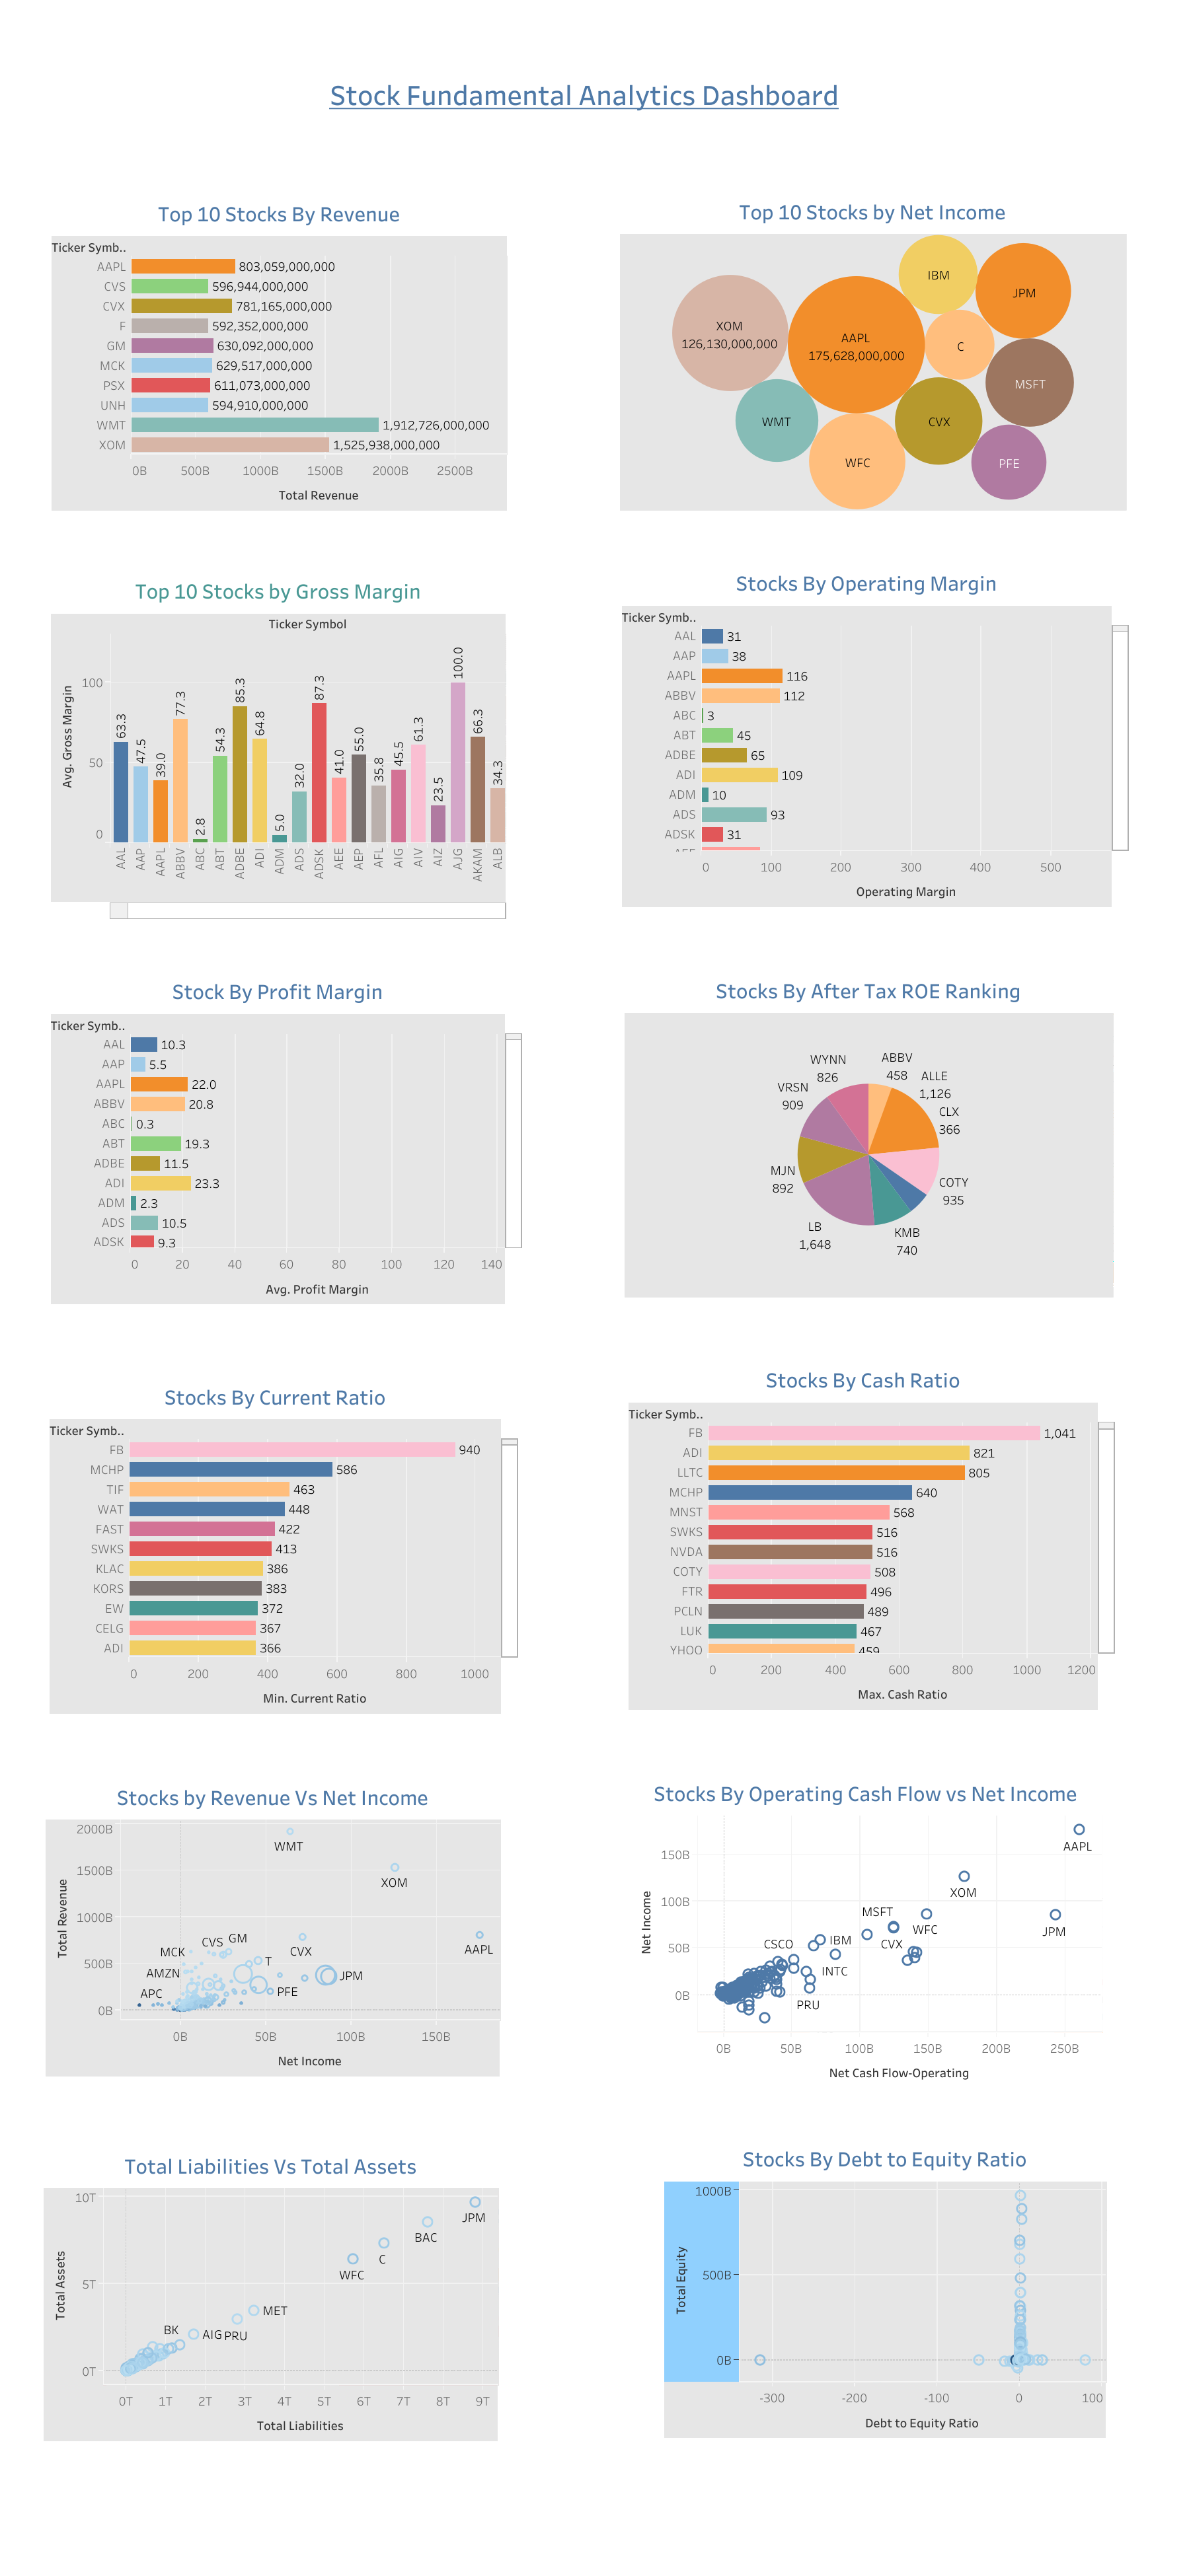

Layout of this report page (visuals, bound fields, positions):
{"tool":"tableau","page":{"name":"Dashboard 1","canvas":[1200,2600],"ordinal":0},"visuals":[{"type":"text","box":[131,51,917,87]},{"type":"worksheet","title":"Net Income","mark":"Circle","box":[625,193,510,321]},{"type":"worksheet","title":"Revenue","mark":"Automatic","rows":["Ticker Symbol"],"cols":["Total Revenue"],"box":[52,195,459,321]},{"type":"worksheet","title":"Operating Margin","mark":"Automatic","rows":["Ticker Symbol"],"cols":["Operating Margin"],"box":[627,568,512,347]},{"type":"worksheet","title":"Gross Margin","mark":"Automatic","rows":["Gross Margin"],"cols":["Ticker Symbol"],"box":[51,576,459,352]},{"type":"worksheet","title":"ROE Ranking","mark":"Pie","box":[630,979,492,329]},{"type":"worksheet","title":"Profit Margin","mark":"Bar","rows":["Ticker Symbol"],"cols":["Profit Margin"],"box":[51,980,476,336]},{"type":"worksheet","title":"Cash Ratio","mark":"Automatic","rows":["Ticker Symbol"],"cols":["Cash Ratio"],"box":[634,1372,491,353]},{"type":"worksheet","title":"Current Ratio","mark":"Automatic","rows":["Ticker Symbol"],"cols":["Current Ratio"],"box":[50,1389,473,340]},{"type":"worksheet","title":"Operating Cash Flow vs Net Income","mark":"Automatic","rows":["Net Income"],"cols":["Net Cash Flow-Operating"],"box":[633,1789,477,302]},{"type":"worksheet","title":"Revenue Vs Net Income","mark":"Automatic","rows":["Total Revenue"],"cols":["Net Income"],"box":[46,1793,458,302]},{"type":"worksheet","title":"Debt to Equity Ratio","mark":"Automatic","rows":["Total Equity"],"cols":["Calculation_0014449235988620"],"box":[670,2158,445,302]},{"type":"worksheet","title":"Total Liabilities Vs Total Assets","mark":"Automatic","rows":["Total Assets"],"cols":["Total Liabilities"],"box":[44,2165,458,298]}]}

Visuals, with their boxes in screenshot pixels (x1, y1, x2, y2), scaled from the page's 1200x2600 canvas onto the 1189x2576 screenshot:
text: (x1=130, y1=50, x2=1038, y2=137)
"Net Income" worksheet (Circle marks): (x1=619, y1=191, x2=1125, y2=509)
"Revenue" worksheet: (x1=52, y1=193, x2=506, y2=511)
"Operating Margin" worksheet: (x1=621, y1=563, x2=1129, y2=906)
"Gross Margin" worksheet: (x1=50, y1=571, x2=506, y2=920)
"ROE Ranking" worksheet (Pie marks): (x1=624, y1=970, x2=1112, y2=1296)
"Profit Margin" worksheet (Bar marks): (x1=50, y1=971, x2=522, y2=1304)
"Cash Ratio" worksheet: (x1=628, y1=1359, x2=1115, y2=1709)
"Current Ratio" worksheet: (x1=50, y1=1376, x2=518, y2=1713)
"Operating Cash Flow vs Net Income" worksheet: (x1=627, y1=1773, x2=1100, y2=2072)
"Revenue Vs Net Income" worksheet: (x1=46, y1=1777, x2=500, y2=2076)
"Debt to Equity Ratio" worksheet: (x1=664, y1=2138, x2=1105, y2=2437)
"Total Liabilities Vs Total Assets" worksheet: (x1=44, y1=2145, x2=498, y2=2441)
